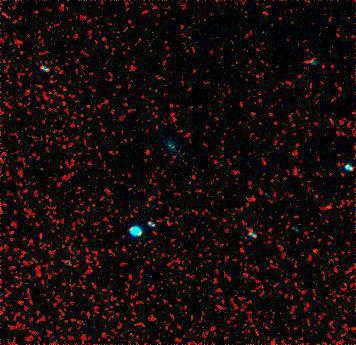star: (297, 237, 327, 267)
